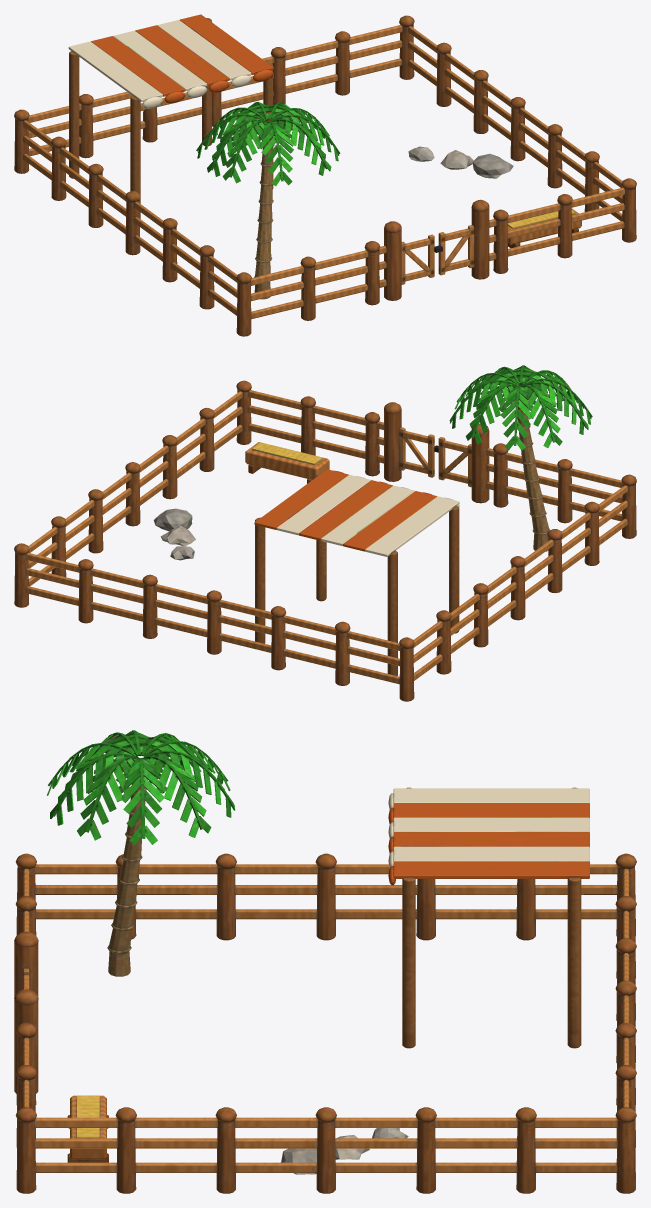
File: camel_corral.glb
The picture shows the model from 3 angles, top to bottom: view 1: azimuth 30°, elevation 25°; view 2: azimuth 150°, elevation 25°; view 3: azimuth 270°, elevation 25°; orthographic projection. The views are drawn at different scales.
Visible parts, largest first — view 1: camel_corral; view 2: camel_corral; view 3: camel_corral.
Part boxes in pixels (box(x1,y1,x2,y2)): camel_corral: box(14, 14, 636, 336); camel_corral: box(14, 365, 636, 701); camel_corral: box(14, 730, 636, 1193).
Size of the model in its own units: 3 by 1.24 by 3.01.
1 material, 1 textured.
